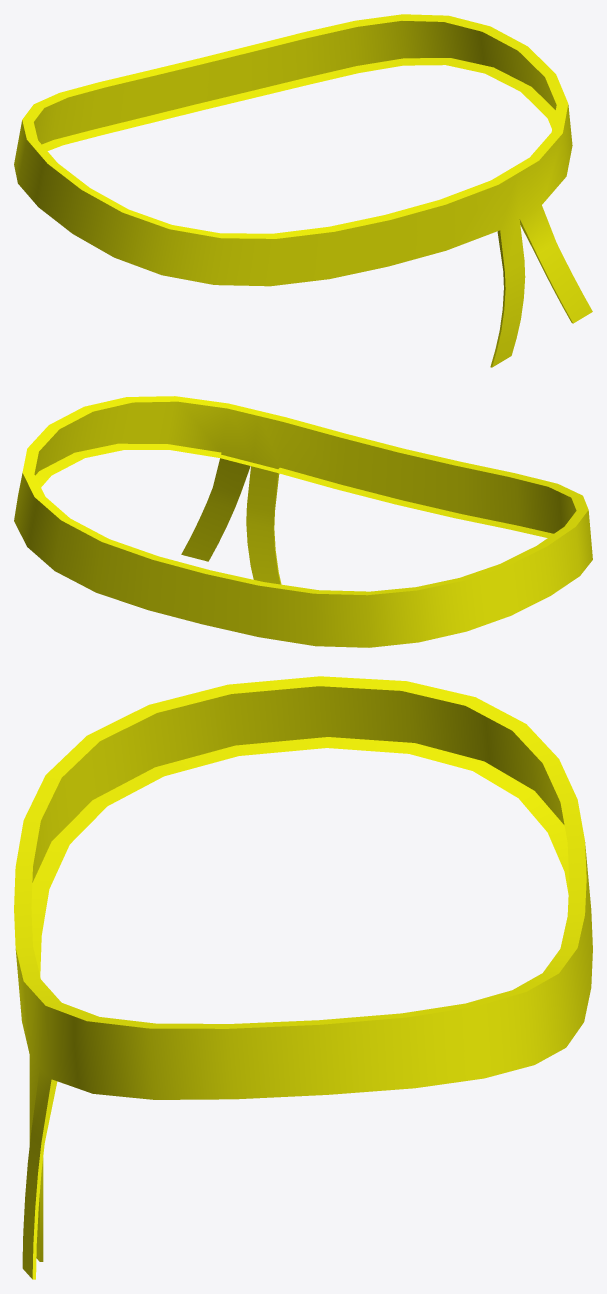
The model's file is Ikat Pinggang Tharok.fbx.
3 views of the same model, one above another, from view 1: azimuth 30°, elevation 25°; view 2: azimuth 150°, elevation 25°; view 3: azimuth 270°, elevation 25° (orthographic). The views are drawn at different scales.
Parts seen in each view (by area): view 1: Ikat Pinggang Tharok; view 2: Ikat Pinggang Tharok; view 3: Ikat Pinggang Tharok.
Boxes of the visible parts, x1,y1,x2,y2 form: Ikat Pinggang Tharok: (14, 14, 592, 367); Ikat Pinggang Tharok: (14, 396, 592, 647); Ikat Pinggang Tharok: (14, 676, 592, 1279).
Size of the model in its own units: 97.85 by 41.36 by 66.89.
